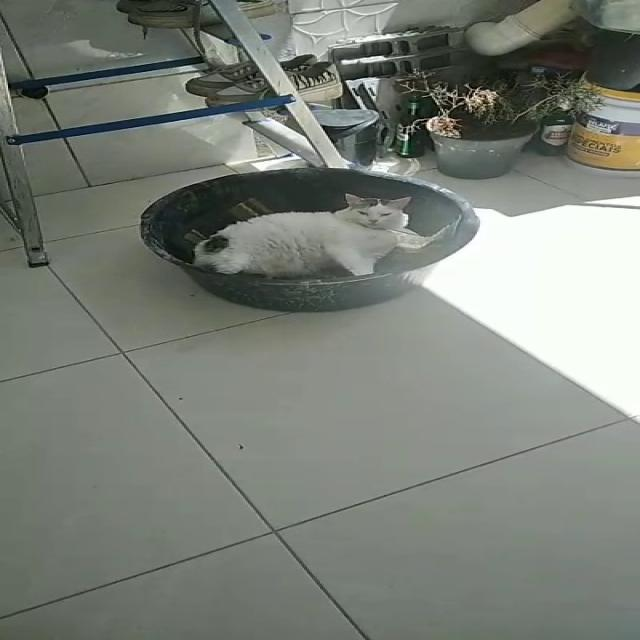Simba: (180, 185, 464, 289)
